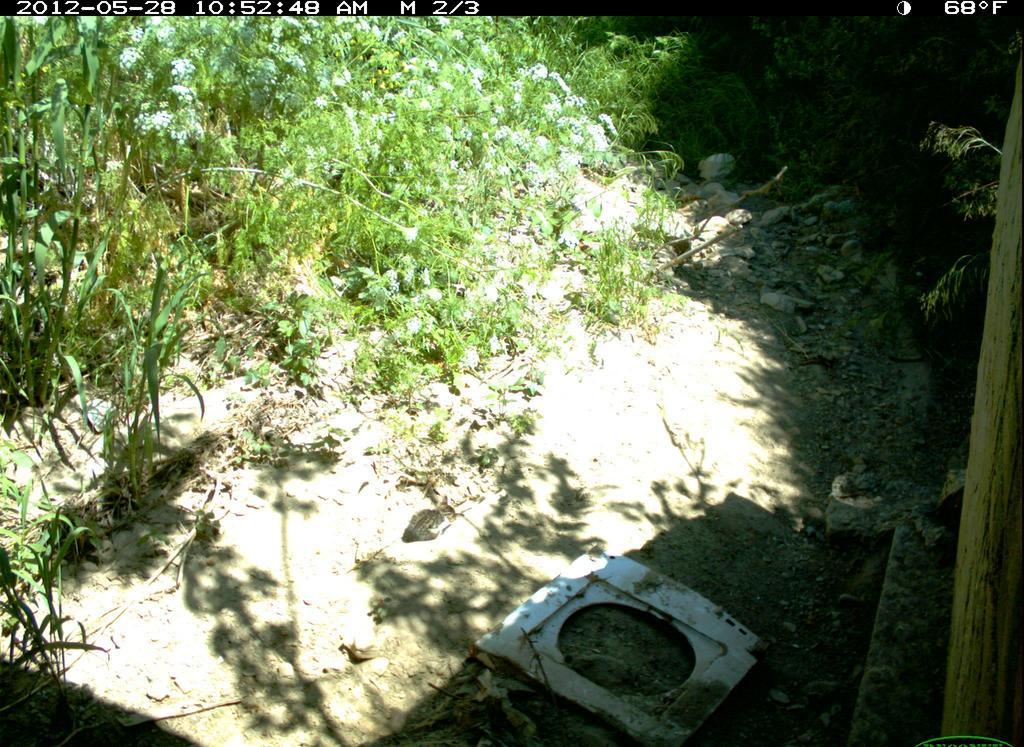cat: (401, 492, 468, 549)
